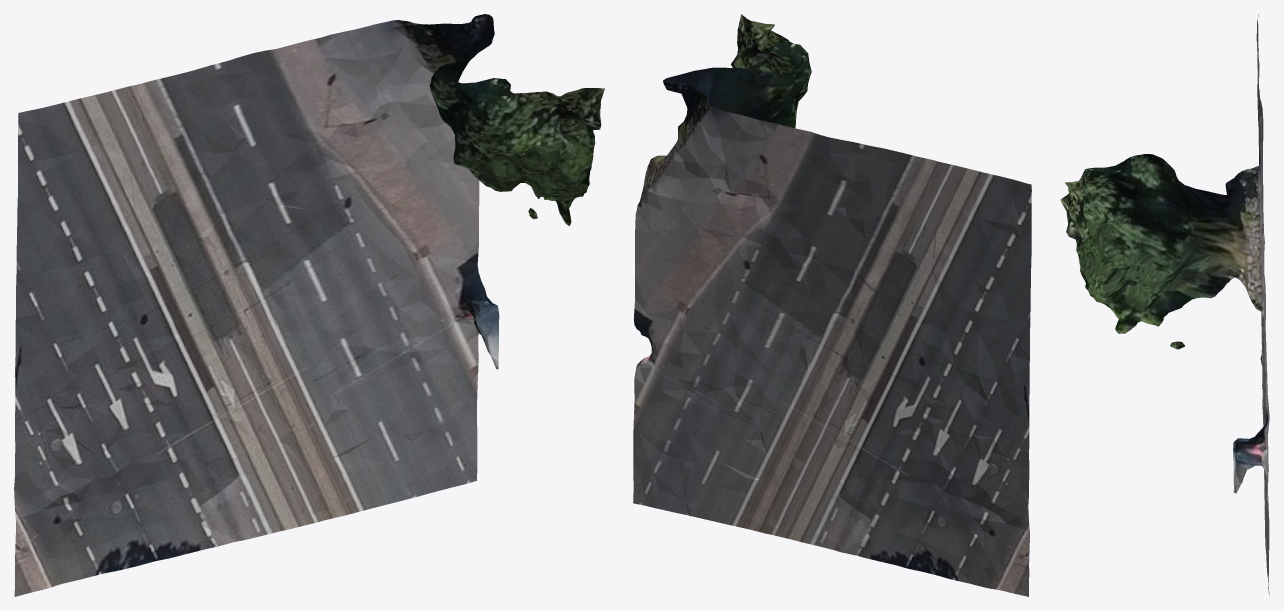
File: Tile_+032_+022_L21_00022300.obj
3 views of the same model, side by side, from view 1: azimuth 30°, elevation 25°; view 2: azimuth 150°, elevation 25°; view 3: azimuth 270°, elevation 25° (orthographic). The views are drawn at different scales.
Size of the model in its own units: 31.38 by 31.31 by 14.96.
Materials: 1 (1 with a texture image).
